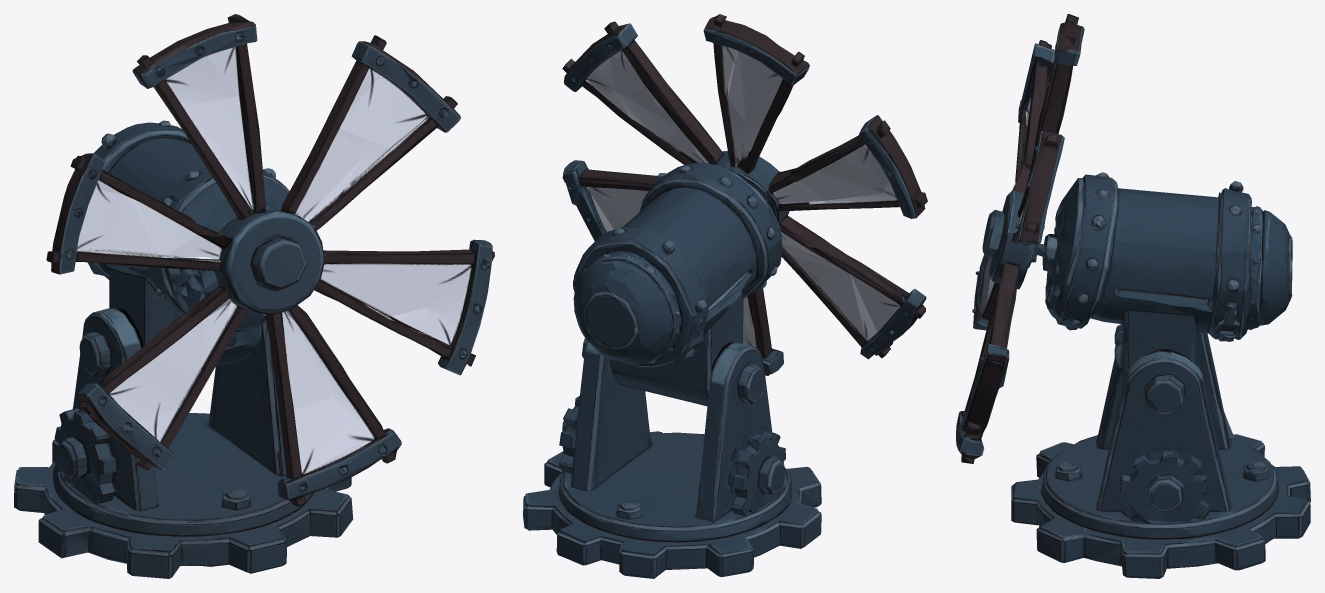
File: turret.glb
3 views of the same model, side by side, from view 1: azimuth 30°, elevation 25°; view 2: azimuth 150°, elevation 25°; view 3: azimuth 270°, elevation 25° (orthographic). The views are drawn at different scales.
Size of the model in its own units: 1.59 by 1.9 by 1.27.
Materials: 1 (1 with a texture image).
